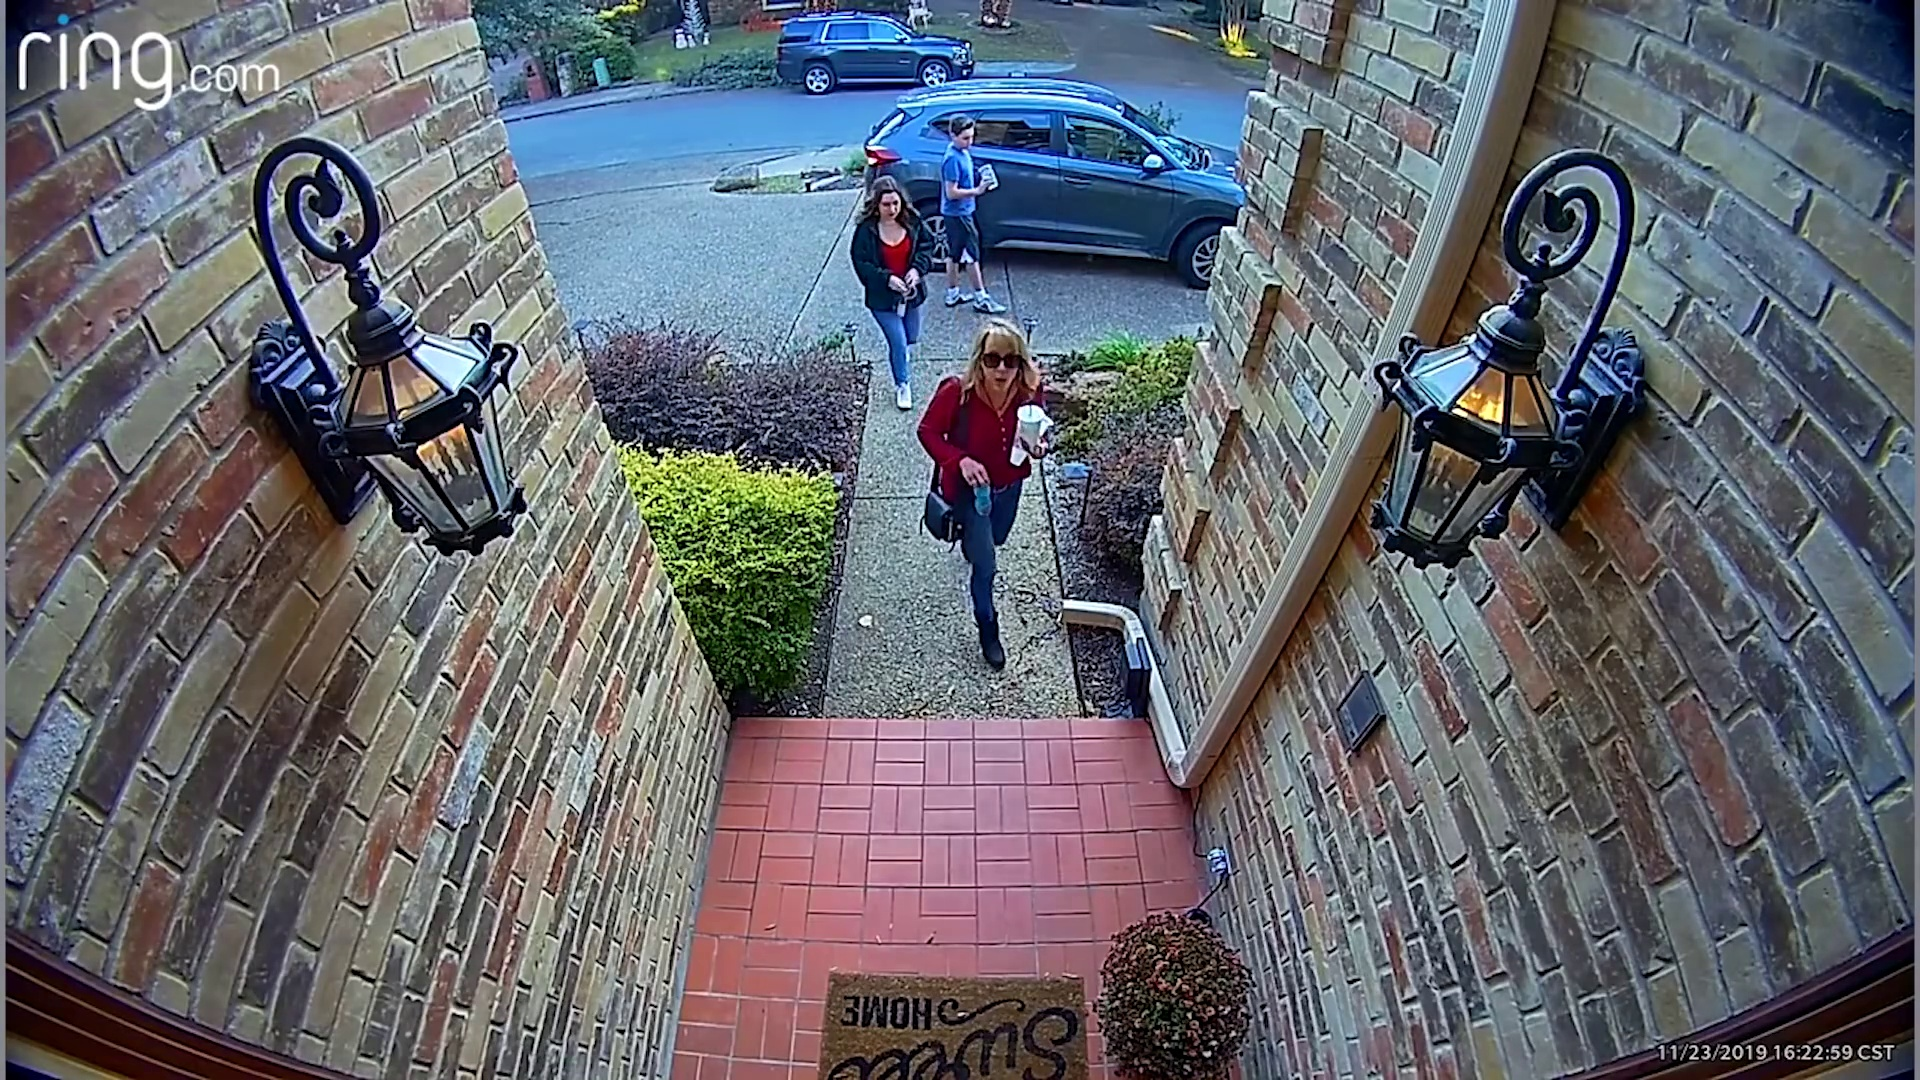face: (981, 343, 1018, 389), (879, 192, 902, 219), (957, 125, 975, 150)
